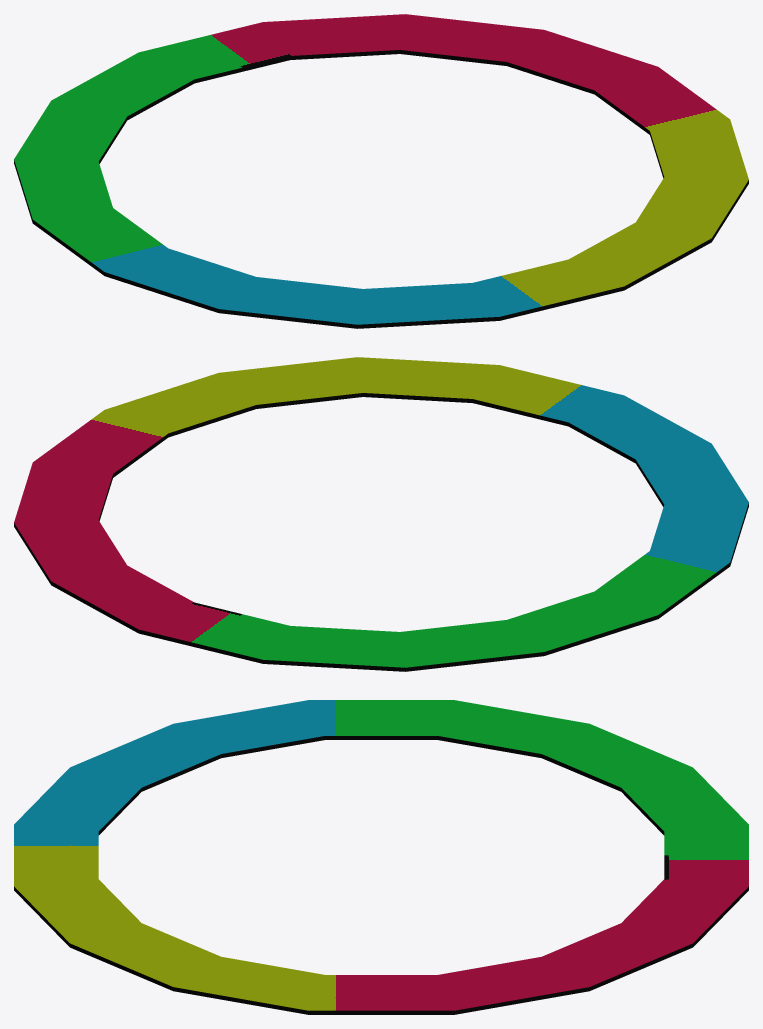
The model's file is Quadrents.fbx.
The picture shows the model from 3 angles, top to bottom: view 1: azimuth 30°, elevation 25°; view 2: azimuth 150°, elevation 25°; view 3: azimuth 270°, elevation 25°; orthographic projection.
Parts seen in each view (by area): view 1: Quad2, Quad4, Quad3, Quad1; view 2: Quad1, Quad3, Quad4, Quad2; view 3: Quad4, Quad3, Quad1, Quad2.
Boxes of the visible parts, box(x1,y1,x2,y2) form: Quad2: box(68, 228, 561, 328); Quad4: box(201, 14, 693, 114); Quad3: box(521, 93, 748, 305); Quad1: box(14, 37, 242, 249); Quad1: box(201, 571, 694, 671); Quad3: box(69, 357, 561, 457); Quad4: box(14, 436, 241, 648); Quad2: box(520, 380, 748, 592); Quad4: box(381, 855, 748, 1014); Quad3: box(14, 855, 381, 1014); Quad1: box(381, 700, 748, 855); Quad2: box(14, 700, 381, 855).
Bounding box in the file's own units: 100 × 0.625 × 100.
1 material, 1 textured.
